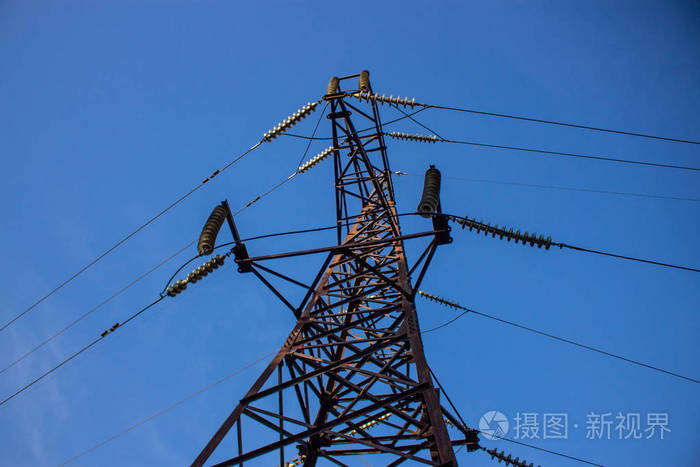insulator: (459, 217, 552, 251), (166, 255, 224, 300), (261, 100, 317, 141), (355, 90, 418, 110), (198, 205, 225, 250), (416, 166, 439, 214), (299, 148, 335, 176), (418, 289, 460, 310), (487, 447, 528, 467), (391, 128, 438, 144)
